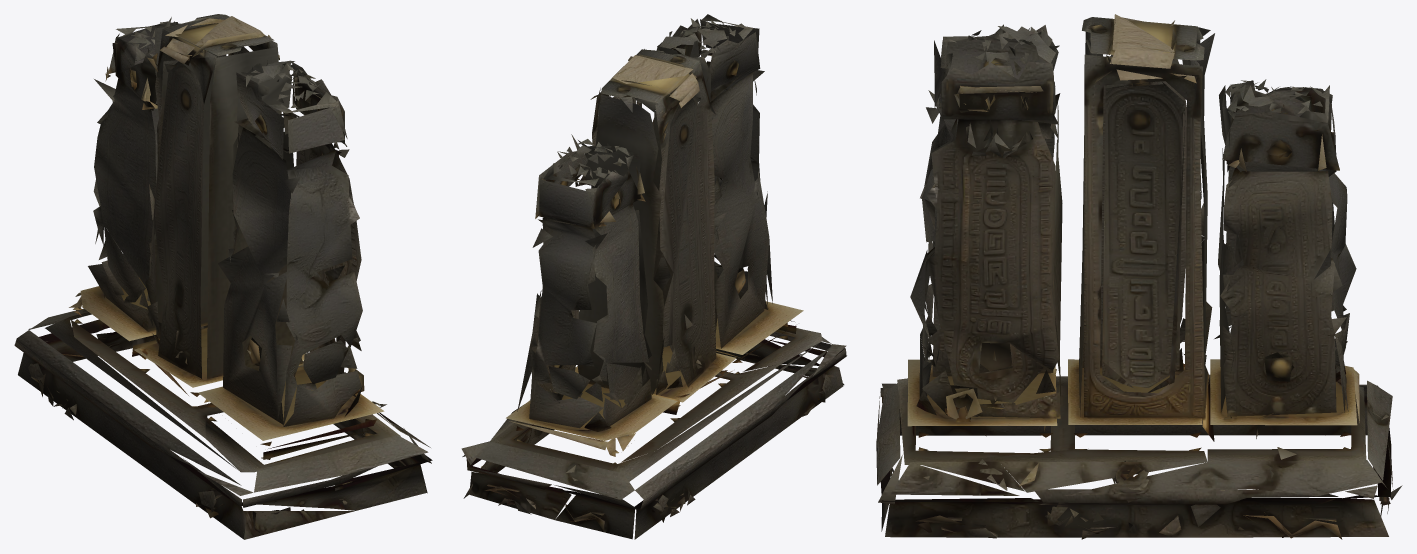
The model's file is ch2_voice_below_tablet_wall_LOD3.glb.
3 renders of one model, left to right at view 1: azimuth 30°, elevation 25°; view 2: azimuth 150°, elevation 25°; view 3: azimuth 270°, elevation 25°, orthographic. The views are drawn at different scales.
Parts seen in each view (by area): view 1: tripo_node_839c6332-e342-46e1-a384-716f313c721f; view 2: tripo_node_839c6332-e342-46e1-a384-716f313c721f; view 3: tripo_node_839c6332-e342-46e1-a384-716f313c721f.
Boxes of the visible parts, x1=… form: tripo_node_839c6332-e342-46e1-a384-716f313c721f: x1=14, y1=14, x2=432, y2=539; tripo_node_839c6332-e342-46e1-a384-716f313c721f: x1=461, y1=14, x2=846, y2=539; tripo_node_839c6332-e342-46e1-a384-716f313c721f: x1=876, y1=14, x2=1402, y2=539.
Size of the model in its own units: 0.5202 by 0.9812 by 1.02.
1 material, 1 textured.
